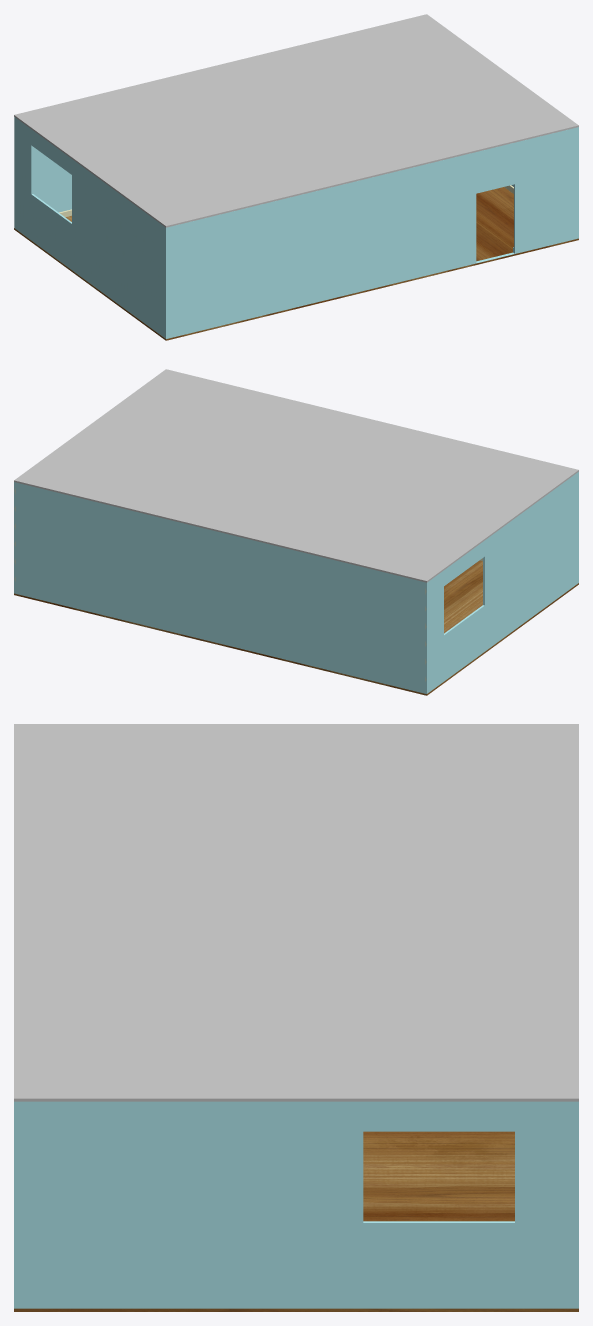
File: bedroom.fbx
3 renders of one model, top to bottom at view 1: azimuth 30°, elevation 25°; view 2: azimuth 150°, elevation 25°; view 3: azimuth 270°, elevation 25°, orthographic. The views are drawn at different scales.
Visible parts, largest first — view 1: bedroom; view 2: bedroom; view 3: bedroom.
Boxes of the visible parts, left/top/right/bottom form: bedroom: left=14, top=14, right=578, bottom=340; bedroom: left=14, top=369, right=578, bottom=695; bedroom: left=14, top=724, right=578, bottom=1311.
Size of the model in its own units: 1467 by 389 by 935.
